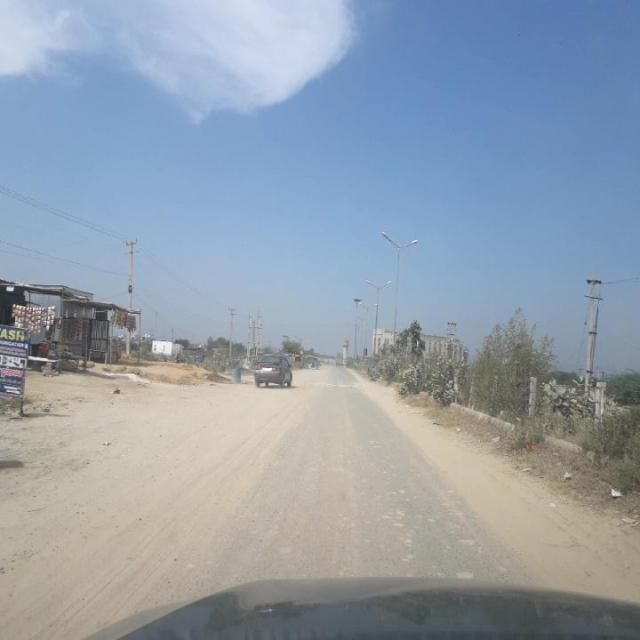Surface Erosion: (178, 335, 561, 640)
